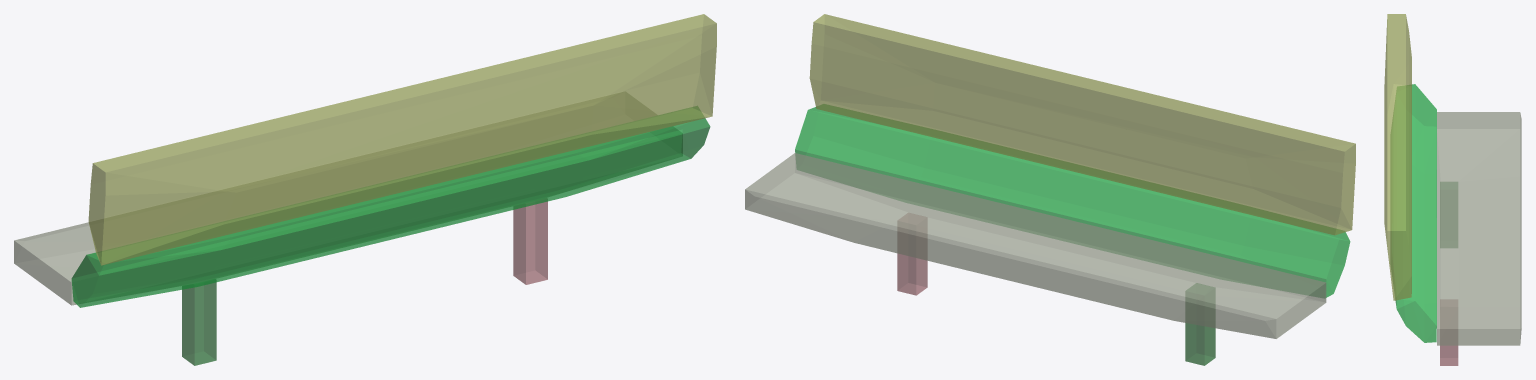
3 renders of one model, left to right at view 1: azimuth 30°, elevation 25°; view 2: azimuth 150°, elevation 25°; view 3: azimuth 270°, elevation 25°, orthographic. The views are drawn at different scales.
Visible parts, largest first — view 1: Shape_IndexedFaceSet.002, Shape_IndexedFaceSet, Shape_IndexedFaceSet.001, Shape_IndexedFaceSet.003, Shape_IndexedFaceSet.004; view 2: Shape_IndexedFaceSet.002, Shape_IndexedFaceSet.001, Shape_IndexedFaceSet, Shape_IndexedFaceSet.003, Shape_IndexedFaceSet.004; view 3: Shape_IndexedFaceSet, Shape_IndexedFaceSet.001, Shape_IndexedFaceSet.002, Shape_IndexedFaceSet.004, Shape_IndexedFaceSet.003.
Part boxes in pixels (left/top/right/bottom): Shape_IndexedFaceSet.002: left=88, top=14, right=716, bottom=265; Shape_IndexedFaceSet: left=14, top=92, right=682, bottom=305; Shape_IndexedFaceSet.001: left=71, top=106, right=710, bottom=307; Shape_IndexedFaceSet.003: left=182, top=279, right=216, bottom=365; Shape_IndexedFaceSet.004: left=513, top=198, right=547, bottom=284; Shape_IndexedFaceSet.002: left=809, top=14, right=1355, bottom=235; Shape_IndexedFaceSet.001: left=795, top=104, right=1350, bottom=297; Shape_IndexedFaceSet: left=745, top=153, right=1326, bottom=338; Shape_IndexedFaceSet.003: left=1185, top=283, right=1215, bottom=365; Shape_IndexedFaceSet.004: left=897, top=213, right=927, bottom=295; Shape_IndexedFaceSet: left=1437, top=112, right=1521, bottom=345; Shape_IndexedFaceSet.001: left=1391, top=84, right=1436, bottom=342; Shape_IndexedFaceSet.002: left=1384, top=14, right=1411, bottom=300; Shape_IndexedFaceSet.004: left=1440, top=300, right=1458, bottom=365; Shape_IndexedFaceSet.003: left=1440, top=182, right=1457, bottom=247.
Size of the model in its own units: 0.9098 by 0.3562 by 0.2436.
